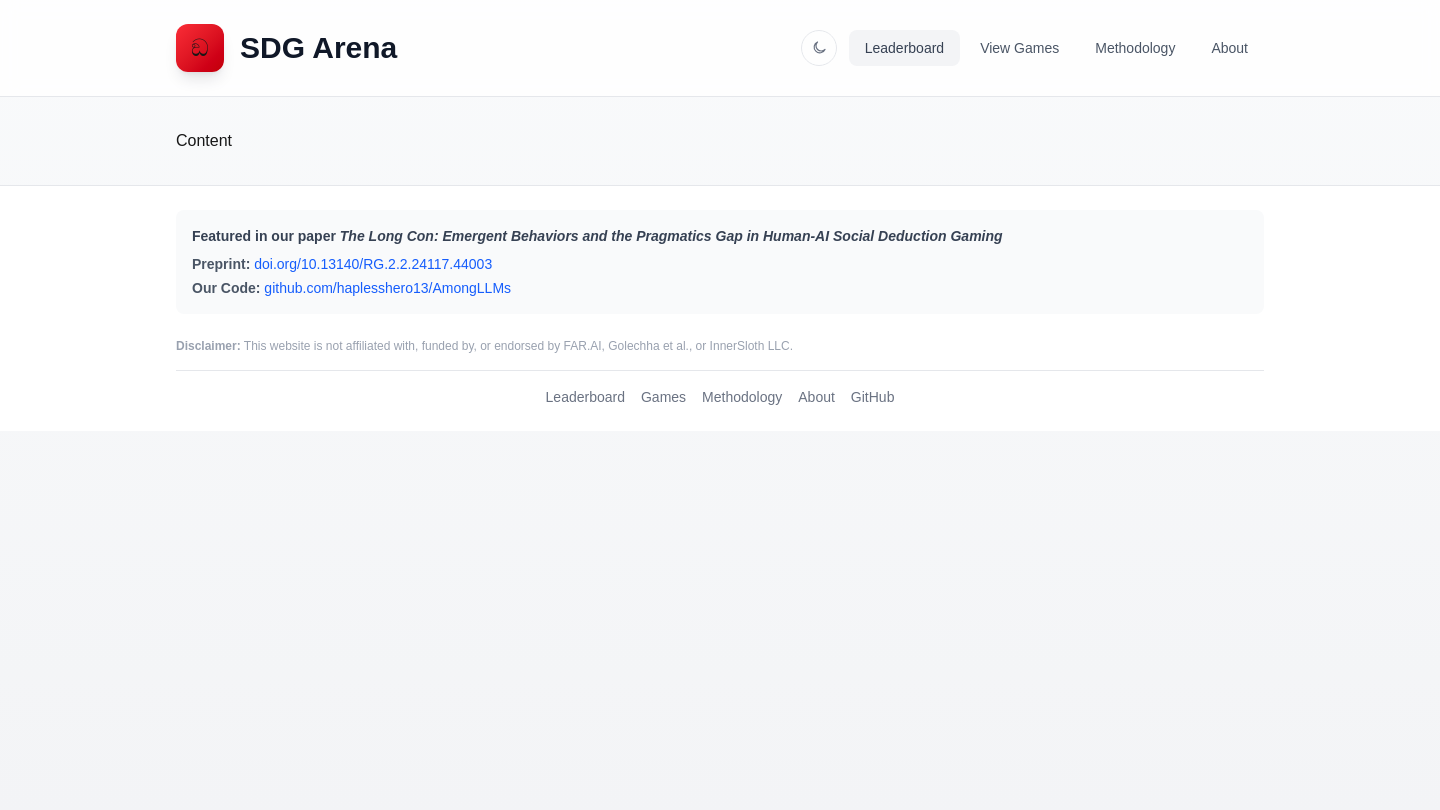
it: PageLayout › toggles dark mode from the header button for the current session
Click the button named "Switch to dark mode".
click(819, 48)  # box [801,30,837,66]
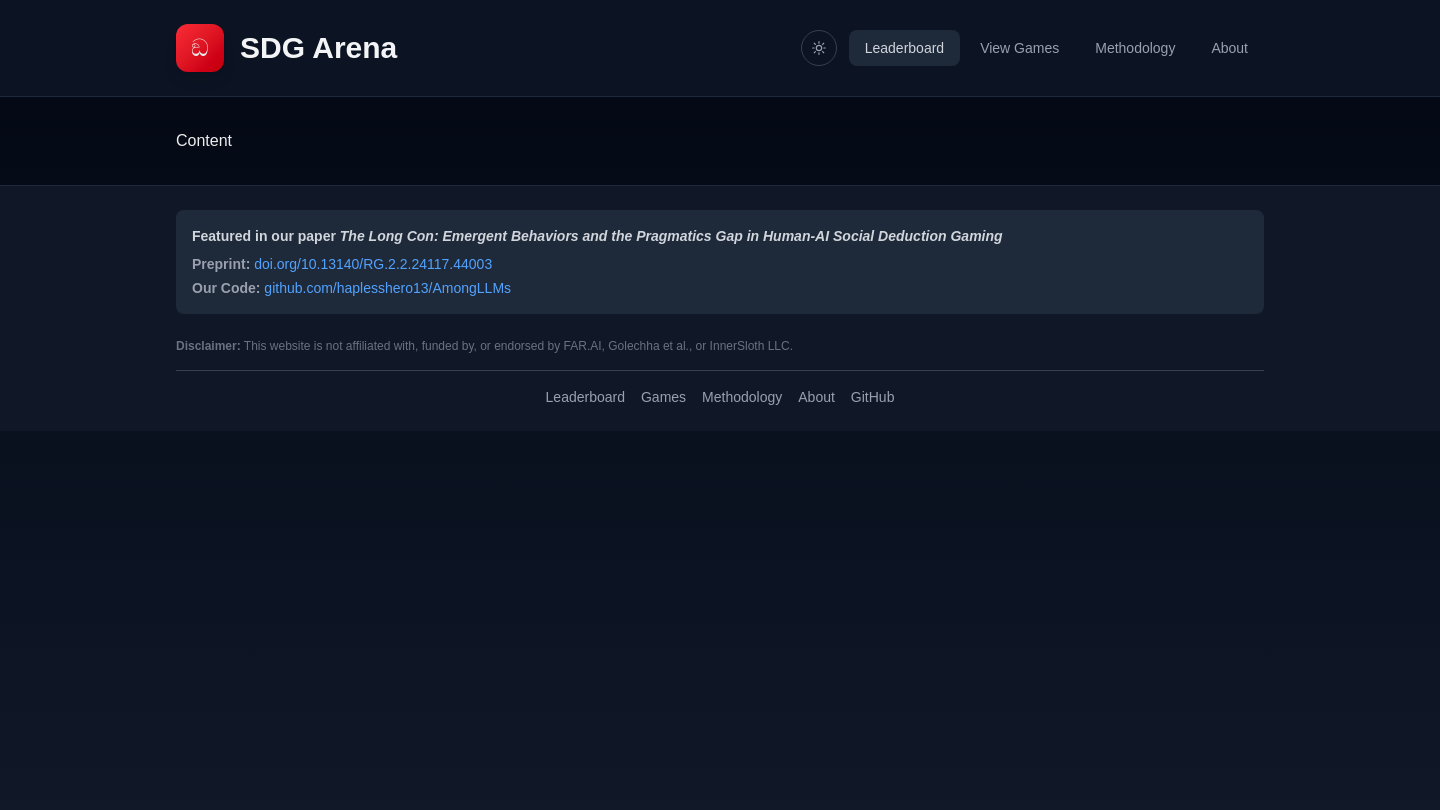
Expected: the button named "Switch to light mode" is shown, [801,30,837,66]
